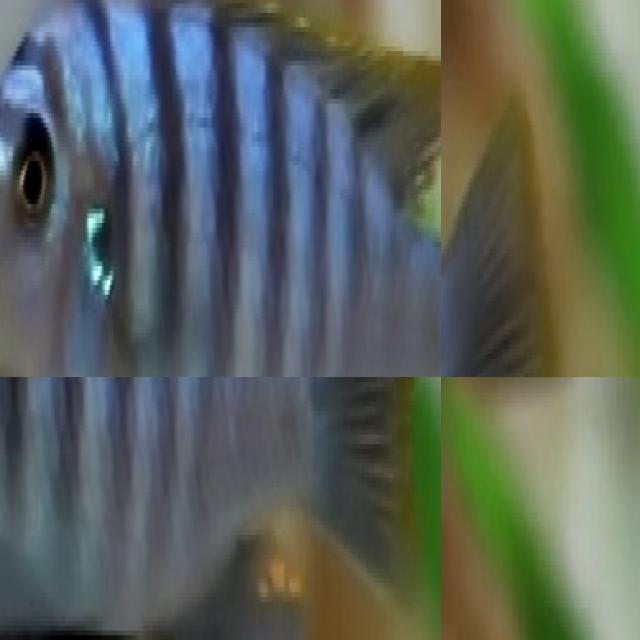fish: (0, 0, 441, 377), (0, 377, 428, 640)
